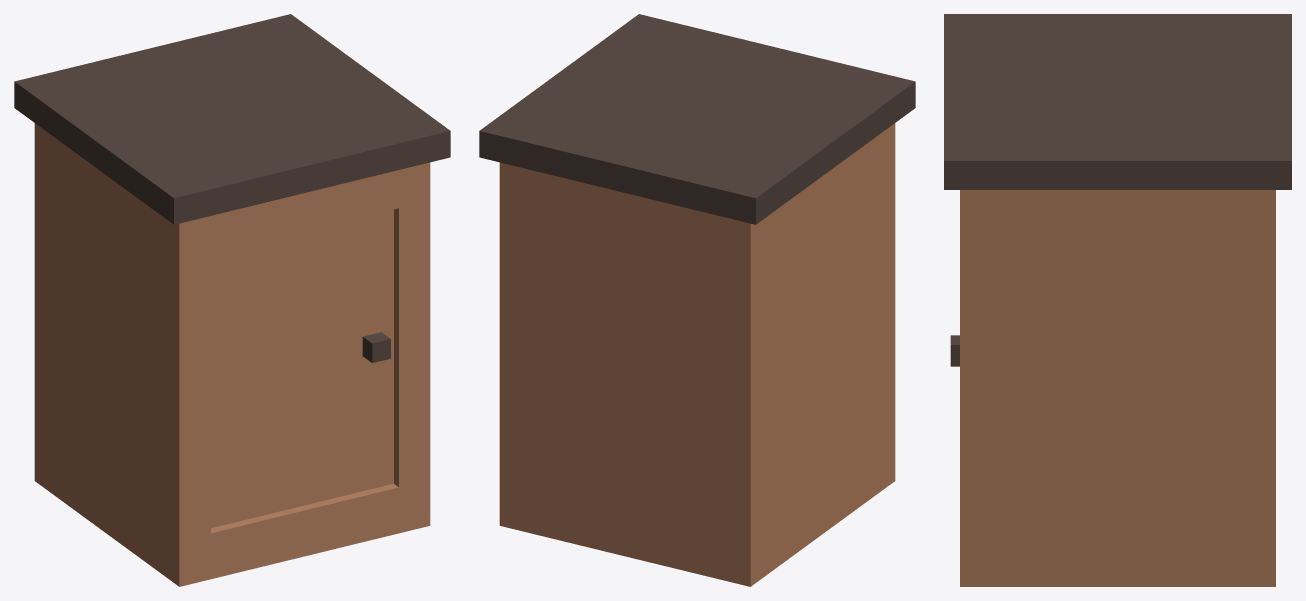
File: Tumba.fbx
3 views of the same model, side by side, from view 1: azimuth 30°, elevation 25°; view 2: azimuth 150°, elevation 25°; view 3: azimuth 270°, elevation 25° (orthographic). The views are drawn at different scales.
Visible parts, largest first — view 1: Tumba; view 2: Tumba; view 3: Tumba.
Part boxes in pixels (x1,y1,x2,y2): Tumba: (14, 14, 450, 586); Tumba: (479, 14, 915, 586); Tumba: (944, 14, 1291, 586).
Size of the model in its own units: 143 by 196 by 143.
